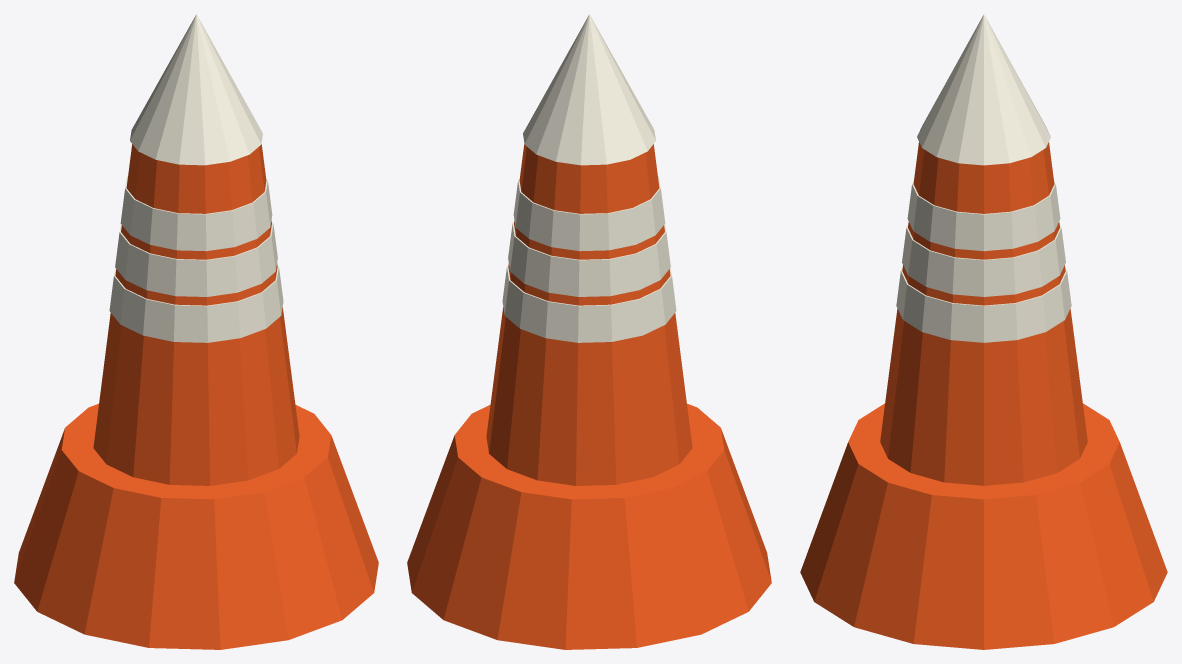
The model's file is practice-buoy.glb.
3 views of the same model, side by side, from view 1: azimuth 30°, elevation 25°; view 2: azimuth 150°, elevation 25°; view 3: azimuth 270°, elevation 25° (orthographic).
Visible parts, largest first — view 1: Buoy | flotation collar, Buoy | marker column, Buoy | conical topmark, Buoy | identification band 1, Buoy | identification band 2, Buoy | identification band 3; view 2: Buoy | flotation collar, Buoy | marker column, Buoy | conical topmark, Buoy | identification band 1, Buoy | identification band 2, Buoy | identification band 3; view 3: Buoy | flotation collar, Buoy | marker column, Buoy | conical topmark, Buoy | identification band 1, Buoy | identification band 2, Buoy | identification band 3.
Part boxes in pixels (bbox=[...]): Buoy | flotation collar: bbox=[14, 403, 378, 649]; Buoy | marker column: bbox=[93, 144, 299, 485]; Buoy | conical topmark: bbox=[130, 14, 262, 165]; Buoy | identification band 1: bbox=[109, 265, 283, 342]; Buoy | identification band 2: bbox=[115, 222, 277, 296]; Buoy | identification band 3: bbox=[120, 176, 272, 251]; Buoy | flotation collar: bbox=[407, 403, 771, 649]; Buoy | marker column: bbox=[486, 144, 692, 485]; Buoy | conical topmark: bbox=[523, 14, 655, 165]; Buoy | identification band 1: bbox=[502, 265, 676, 342]; Buoy | identification band 2: bbox=[508, 222, 670, 296]; Buoy | identification band 3: bbox=[513, 176, 665, 251]; Buoy | flotation collar: bbox=[800, 403, 1167, 649]; Buoy | marker column: bbox=[880, 142, 1087, 485]; Buoy | conical topmark: bbox=[917, 14, 1050, 165]; Buoy | identification band 1: bbox=[896, 268, 1071, 342]; Buoy | identification band 2: bbox=[902, 224, 1065, 296]; Buoy | identification band 3: bbox=[907, 180, 1060, 251].
Size of the model in its own units: 2.3 by 3.86 by 2.3.
